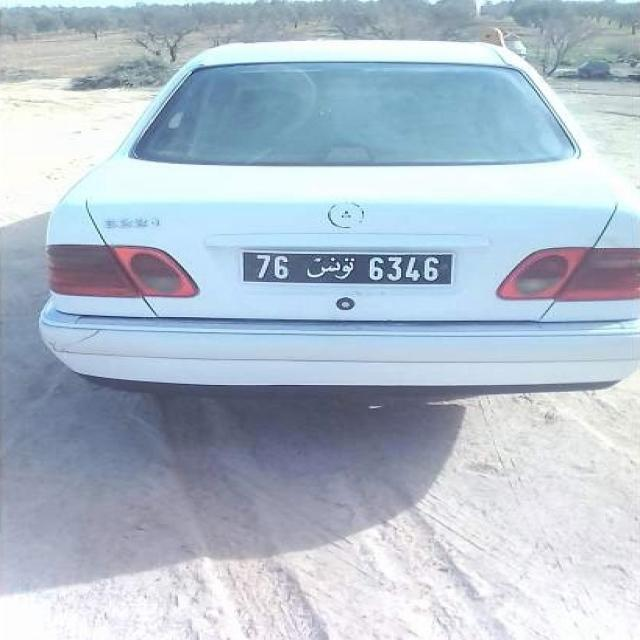licence plate: (244, 253, 451, 284)
